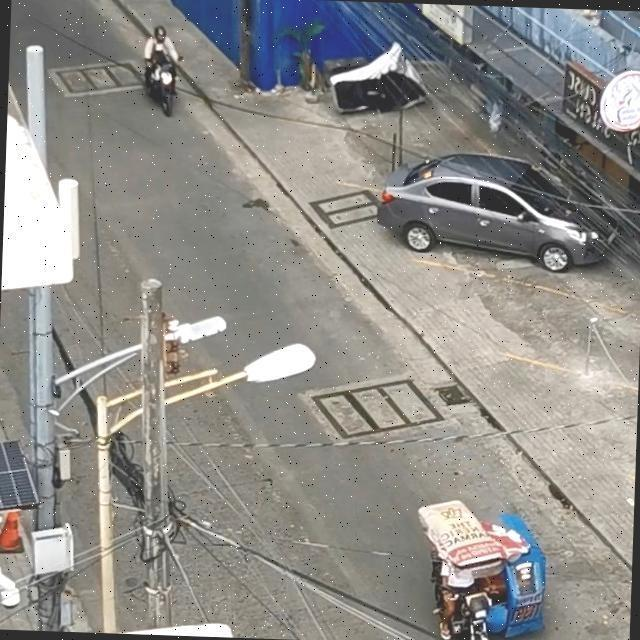Motorcycle: (144, 14, 198, 121)
Tricycle: (403, 480, 576, 640)
